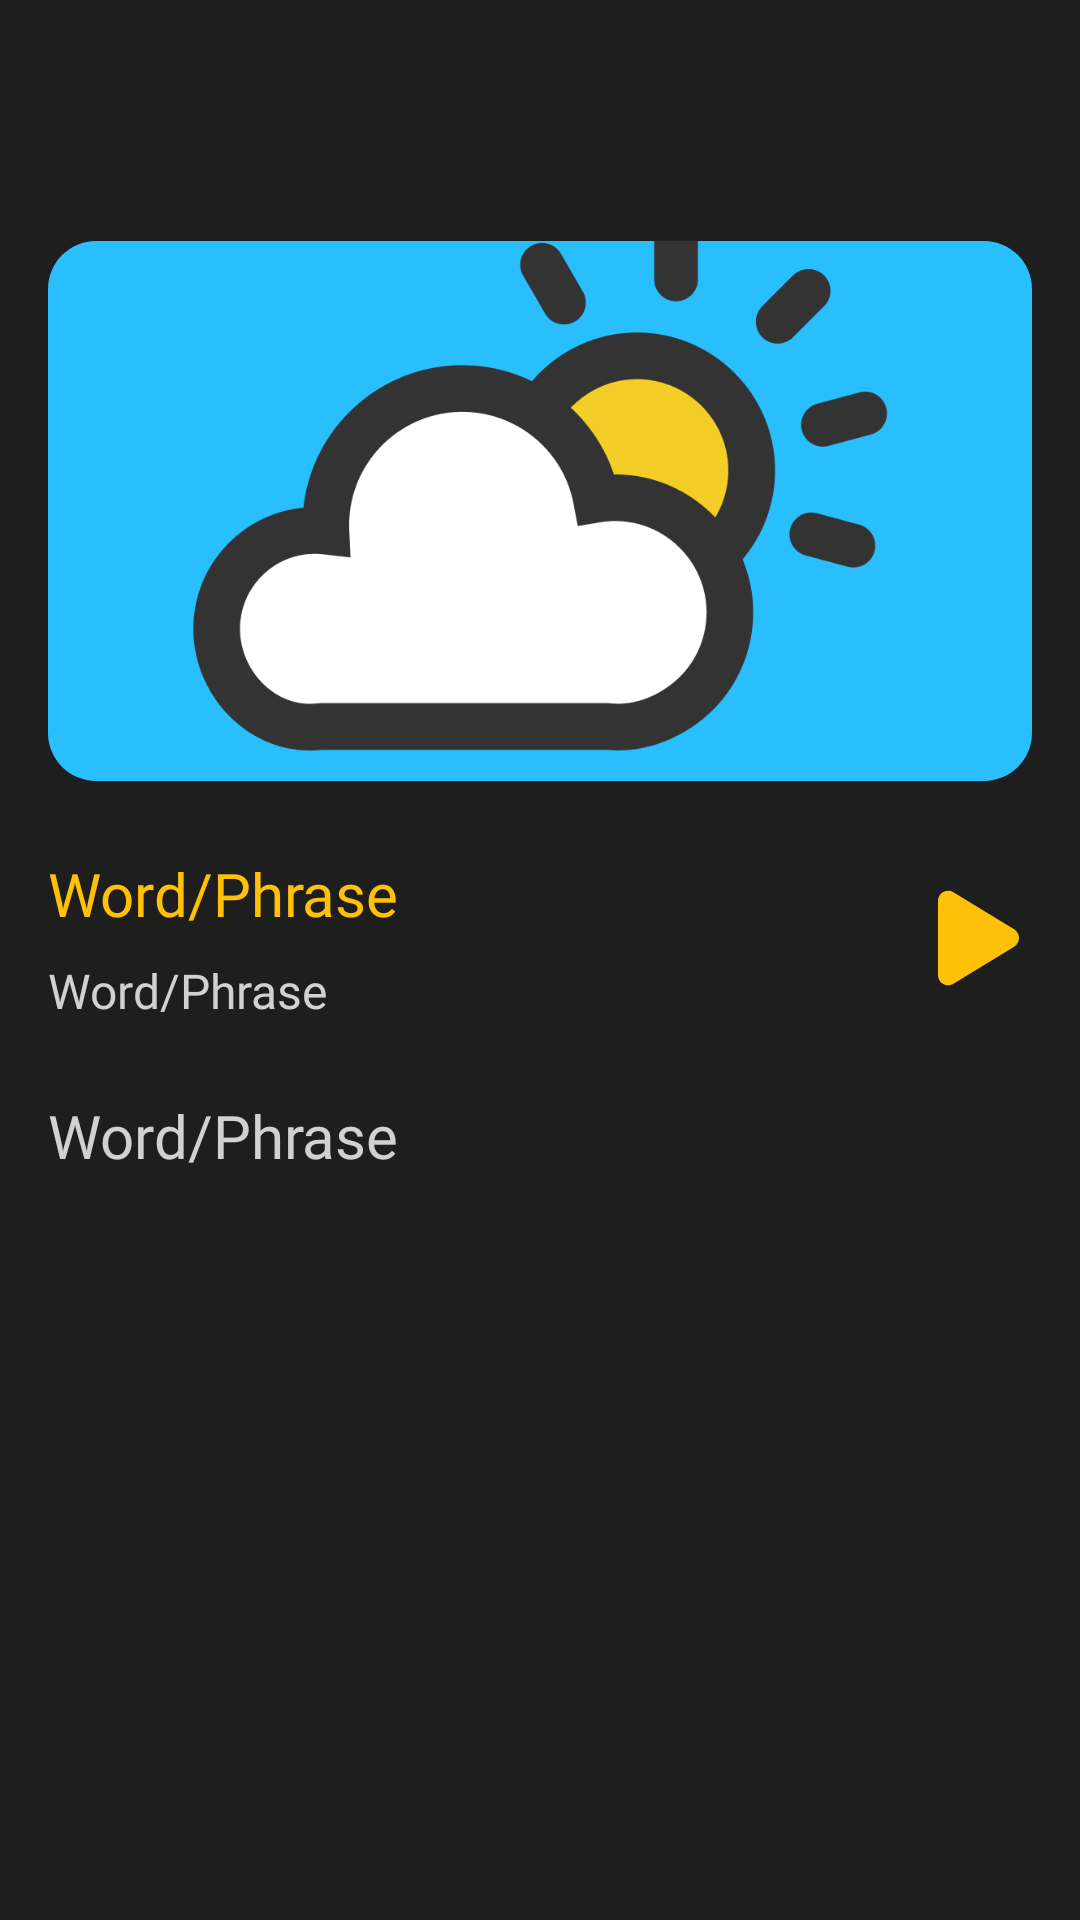

Named icons in this screenshot (1080px×1920px) and their centers, (x=x, y=y):
play: (x=978, y=938)
